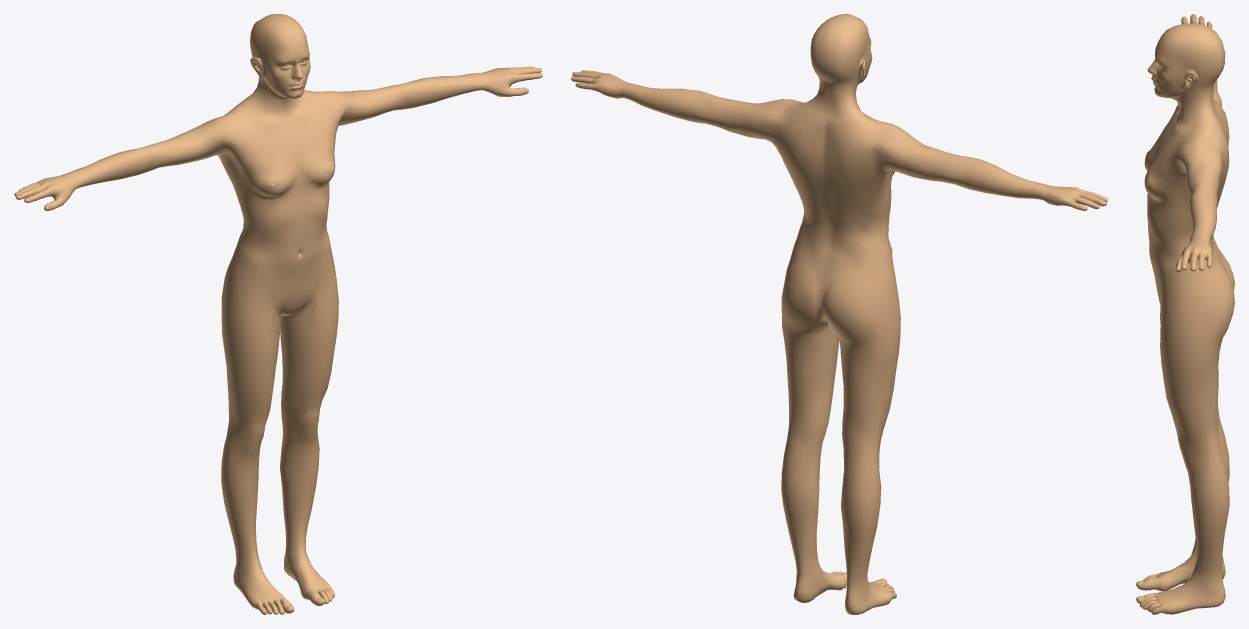
Rendered from CuerpoCompleto.fbx.
3 renders of one model, left to right at view 1: azimuth 30°, elevation 25°; view 2: azimuth 150°, elevation 25°; view 3: azimuth 270°, elevation 25°, orthographic. The views are drawn at different scales.
Visible parts, largest first — view 1: modelo8; view 2: modelo8; view 3: modelo8.
Boxes of the visible parts, x1,y1,x2,y2 form: modelo8: (14,14,542,614); modelo8: (571,14,1107,614); modelo8: (1136,14,1234,614).
Size of the model in its own units: 16.1 by 16.84 by 2.64.
